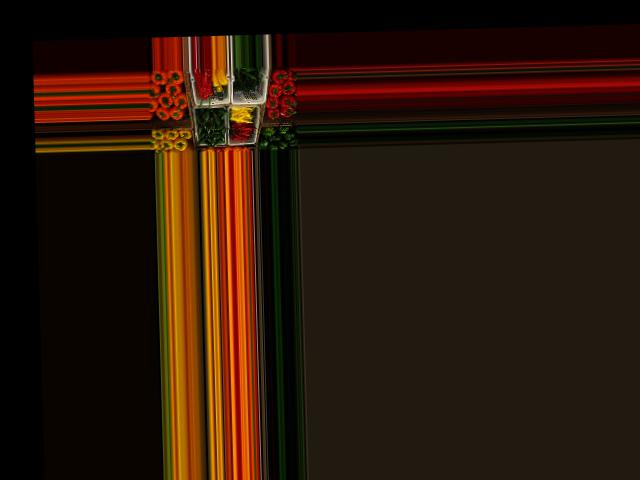bell_pepper: (276, 123, 290, 138)
